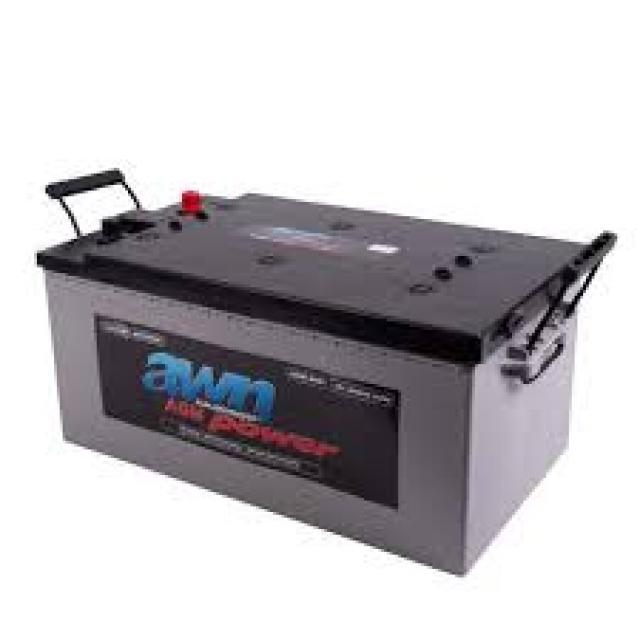non-organic waste: (37, 163, 613, 574)
